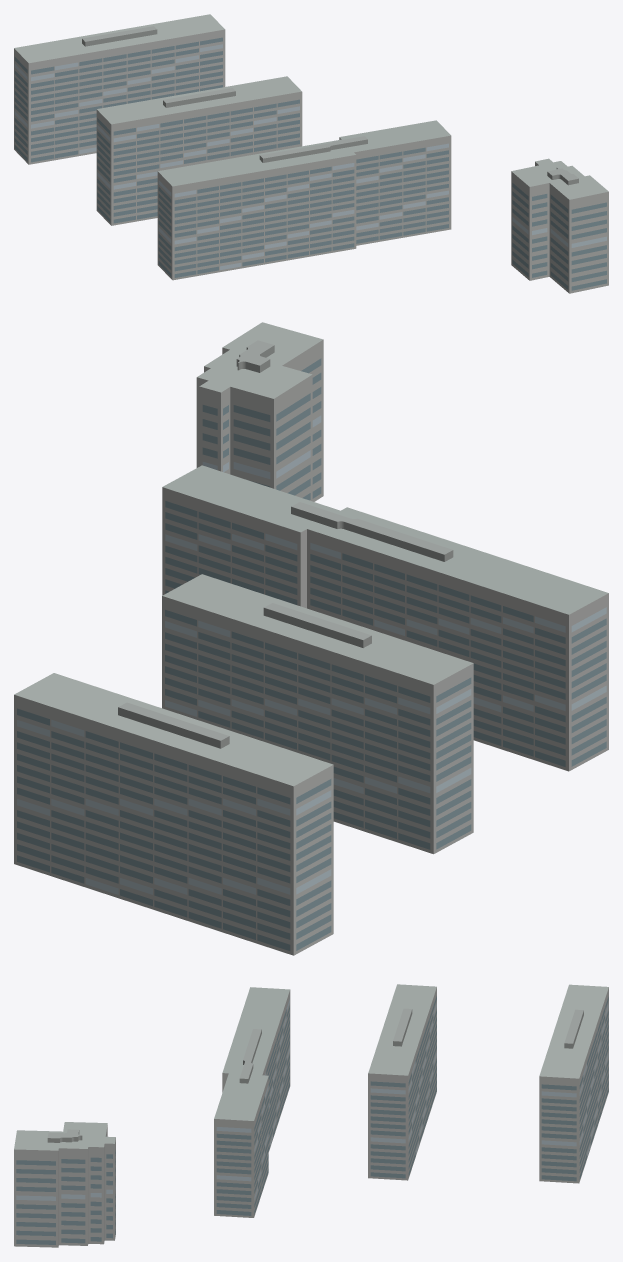
Rendered from apt-a13784102.glb.
3 renders of one model, top to bottom at view 1: azimuth 30°, elevation 25°; view 2: azimuth 150°, elevation 25°; view 3: azimuth 270°, elevation 25°, orthographic. The views are drawn at different scales.
Parts seen in each view (by area): view 1: apt-a13784102; view 2: apt-a13784102; view 3: apt-a13784102.
Part boxes in pixels (x1,y1,x2,y2): apt-a13784102: (14, 14, 608, 293); apt-a13784102: (14, 322, 608, 955); apt-a13784102: (14, 984, 608, 1247).
Bounding box in the file's own units: 128 × 40 × 197.
